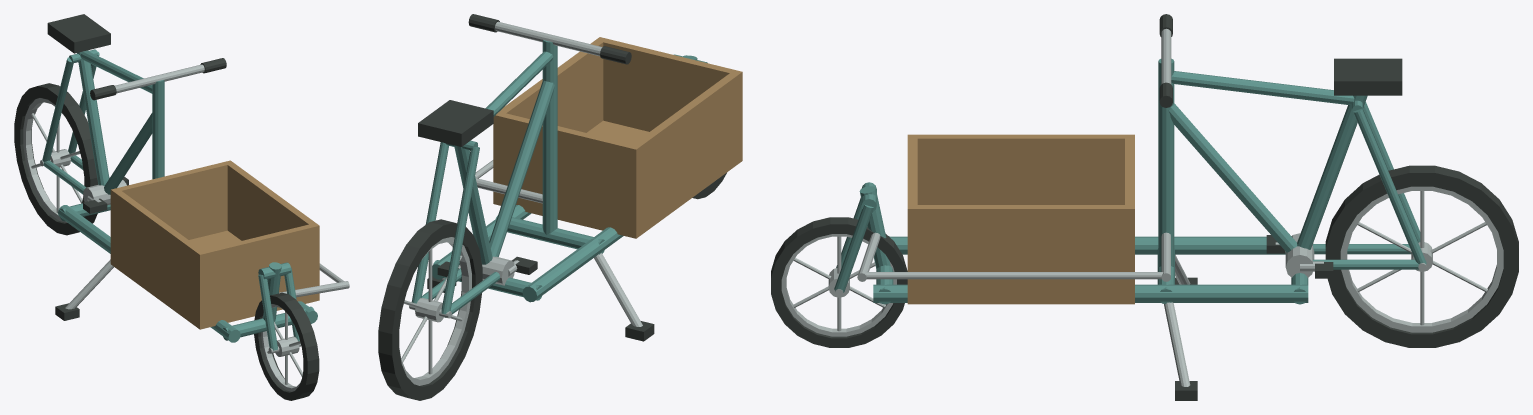
3 views of the same model, side by side, from view 1: azimuth 30°, elevation 25°; view 2: azimuth 150°, elevation 25°; view 3: azimuth 270°, elevation 25° (orthographic). The views are drawn at different scales.
Visible parts, largest first — view 1: WholeLowOpenThickFloorCargoBay, RearWholeFlatFacetAnnularTire, FrontWholeFlatFacetAnnularTire, WholeSaddle, WholeRiderSeatTube, WholeLowLongitudinalCargoBeam_-1, WholeRearControlHead, RearWholeOpenMetalRim, WholeRiderDownTube, WholeRearSeatStay_-1, WholeHandlebar, WholeRiderTopTube (+11 smaller); view 2: WholeLowOpenThickFloorCargoBay, RearWholeFlatFacetAnnularTire, WholeRearControlHead, WholeRiderDownTube, WholeSaddle, WholeLowLongitudinalCargoBeam_-1, RearWholeOpenMetalRim, WholeRearSeatStay_-1, WholeRiderSeatTube, WholeLowFrameCrossmember_-0.05, WholeRearSeatStay_1, WholeHandlebar (+11 smaller); view 3: WholeLowOpenThickFloorCargoBay, RearWholeFlatFacetAnnularTire, FrontWholeFlatFacetAnnularTire, WholeLowLongitudinalCargoBeam_1, RearWholeOpenMetalRim, WholeRiderDownTube, WholeRearControlHead, WholeSaddle, WholeLowLongitudinalCargoBeam_-1, WholeRiderTopTube, WholeRiderSeatTube, WholeExternalLongFixedSteeringLink (+9 smaller).
Boxes of the visible parts, x1,y1,x2,y2 form: WholeLowOpenThickFloorCargoBay: [110, 160, 319, 329]; RearWholeFlatFacetAnnularTire: [14, 83, 98, 235]; FrontWholeFlatFacetAnnularTire: [254, 292, 319, 400]; WholeSaddle: [47, 14, 110, 53]; WholeRiderSeatTube: [77, 50, 109, 185]; WholeLowLongitudinalCargoBeam_-1: [58, 205, 240, 342]; WholeRearControlHead: [152, 80, 164, 179]; RearWholeOpenMetalRim: [23, 98, 83, 222]; WholeRiderDownTube: [104, 113, 152, 194]; WholeRearSeatStay_-1: [42, 57, 73, 161]; WholeHandlebar: [115, 64, 204, 93]; WholeRiderTopTube: [80, 50, 152, 93]; WholeLowOpenThickFloorCargoBay: [493, 37, 742, 238]; RearWholeFlatFacetAnnularTire: [378, 219, 482, 400]; WholeRearControlHead: [542, 40, 557, 235]; WholeRiderDownTube: [489, 80, 554, 256]; WholeSaddle: [418, 100, 493, 146]; WholeLowLongitudinalCargoBeam_-1: [522, 227, 623, 302]; RearWholeOpenMetalRim: [399, 237, 471, 385]; WholeRearSeatStay_-1: [441, 147, 479, 314]; WholeRiderSeatTube: [454, 145, 492, 264]; WholeLowFrameCrossmember_-0.05: [495, 215, 604, 254]; WholeRearSeatStay_1: [411, 142, 448, 303]; WholeHandlebar: [495, 21, 602, 56]; WholeLowOpenThickFloorCargoBay: [907, 134, 1134, 304]; RearWholeFlatFacetAnnularTire: [1325, 165, 1518, 347]; FrontWholeFlatFacetAnnularTire: [771, 217, 907, 347]; WholeLowLongitudinalCargoBeam_1: [873, 284, 1308, 302]; RearWholeOpenMetalRim: [1340, 186, 1503, 332]; WholeRiderDownTube: [1168, 103, 1297, 252]; WholeRearControlHead: [1158, 58, 1174, 267]; WholeSaddle: [1334, 58, 1402, 95]; WholeLowLongitudinalCargoBeam_-1: [889, 236, 1285, 254]; WholeRiderTopTube: [1171, 71, 1354, 104]; WholeRiderSeatTube: [1297, 95, 1367, 249]; WholeExternalLongFixedSteeringLink: [865, 272, 1163, 279].
Size of the model in its own units: 0.94 by 1.12 by 2.63.
